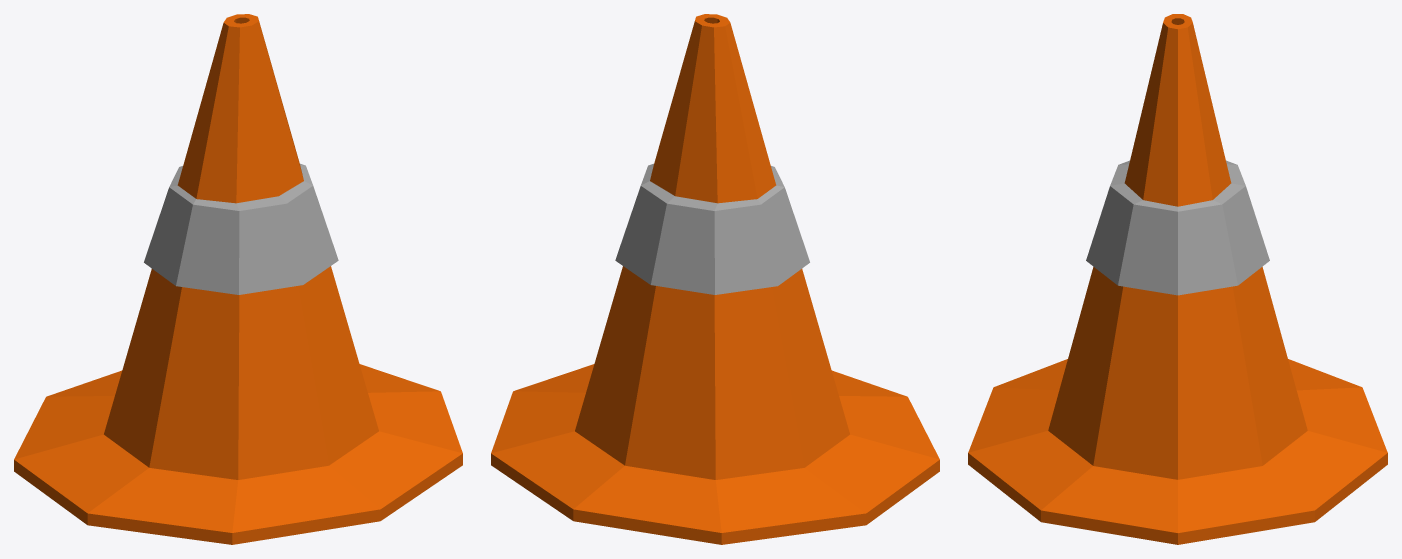
The picture shows the model from 3 angles, left to right: view 1: azimuth 30°, elevation 25°; view 2: azimuth 150°, elevation 25°; view 3: azimuth 270°, elevation 25°; orthographic projection.
Parts seen in each view (by area): view 1: pCone1; view 2: pCone1; view 3: pCone1.
Boxes of the visible parts, x1,y1,x2,y2 form: pCone1: [14, 14, 462, 544]; pCone1: [491, 14, 939, 544]; pCone1: [968, 14, 1387, 544].
Bounding box in the file's own units: 4.82 × 5.1 × 4.54.
